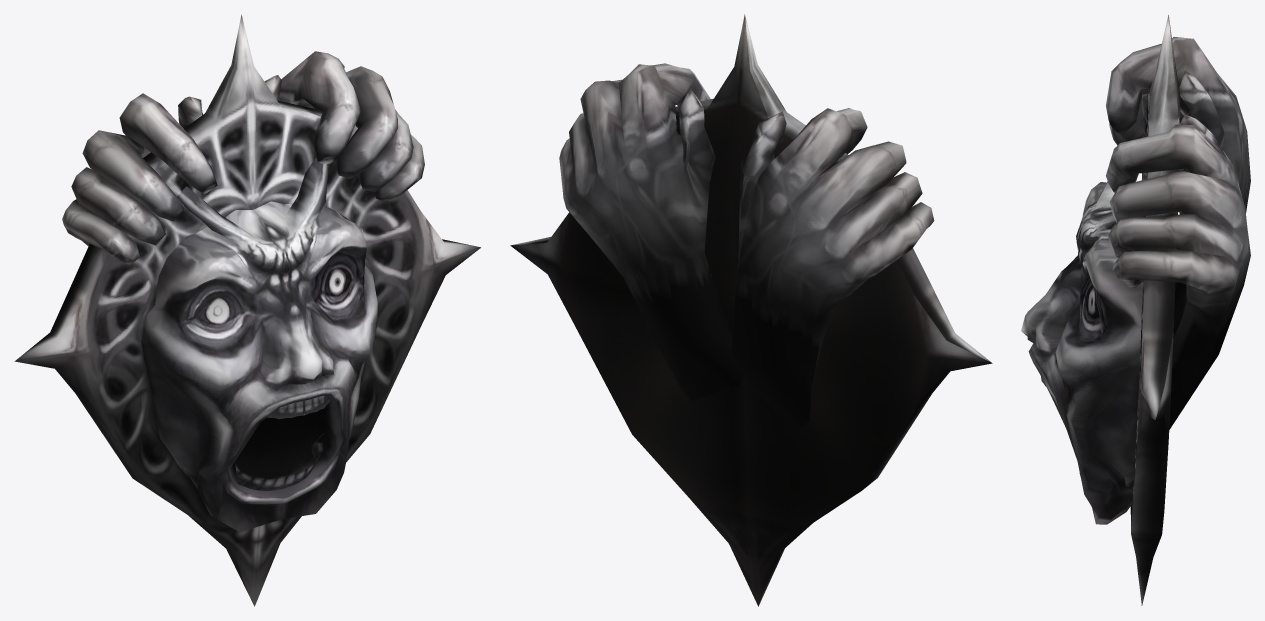
The model's file is Living Shield.fbx.
3 views of the same model, side by side, from view 1: azimuth 30°, elevation 25°; view 2: azimuth 150°, elevation 25°; view 3: azimuth 270°, elevation 25° (orthographic). The views are drawn at different scales.
Visible parts, largest first — view 1: Body, Face; view 2: Body; view 3: Body, Face.
Part boxes in pixels (bbox=[...]): Body: bbox=[14, 14, 480, 606]; Face: bbox=[141, 157, 377, 532]; Body: bbox=[510, 14, 992, 606]; Body: bbox=[1106, 15, 1250, 605]; Face: bbox=[1021, 132, 1146, 524].
Size of the model in its own units: 1341 by 1601 by 563.
1 material, 1 textured.
